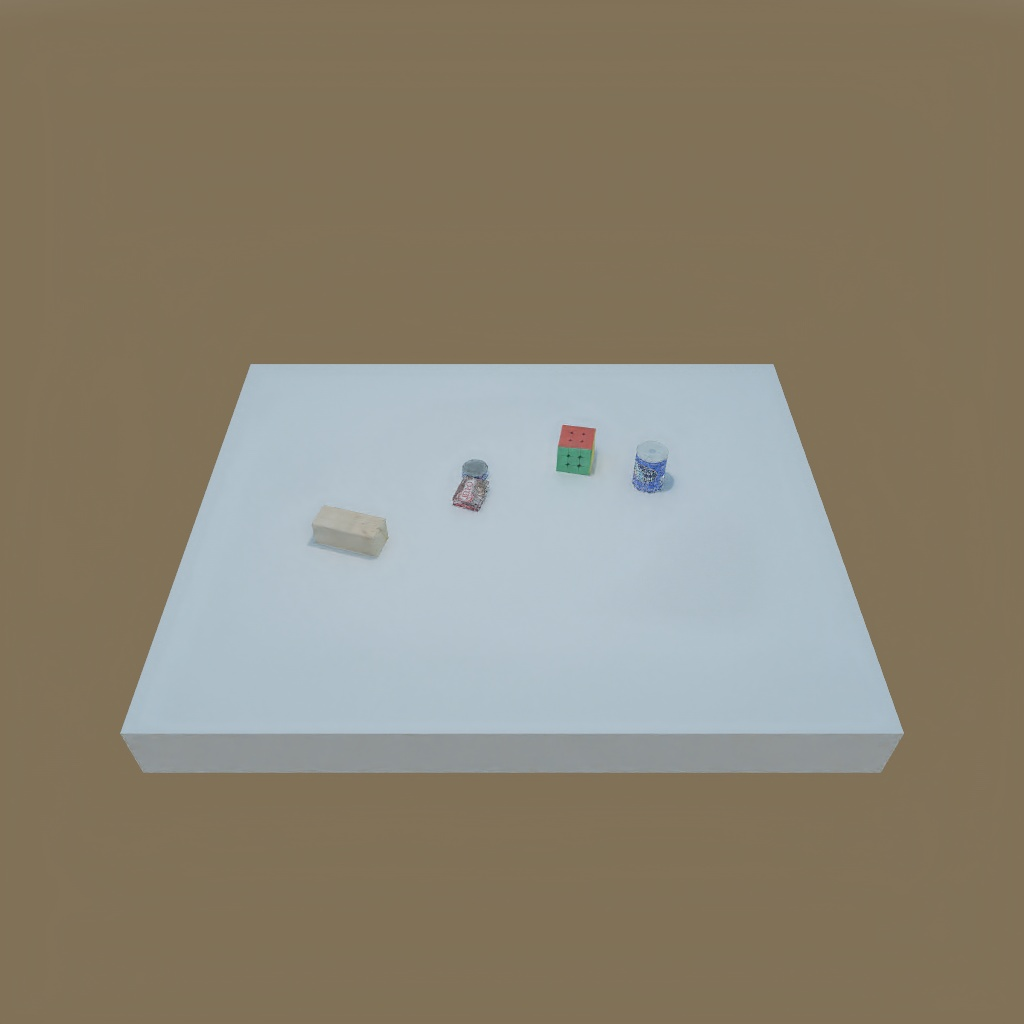master_chef_can: (628, 440, 674, 496)
pudding_box: (449, 474, 490, 516)
rubiks_cube: (551, 424, 598, 478)
wood_block: (307, 501, 387, 554)
